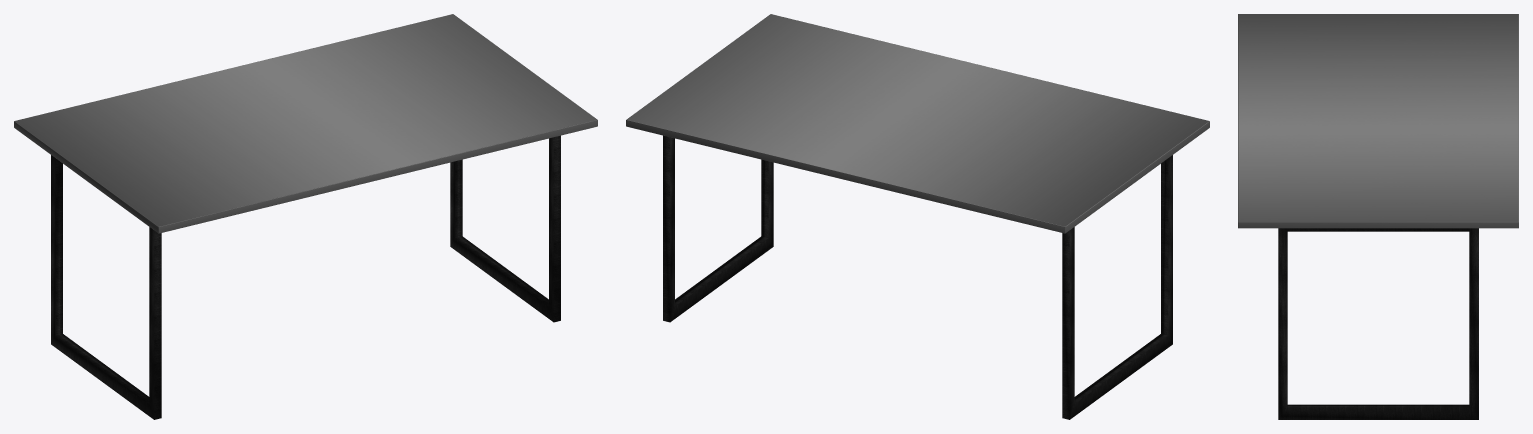
File: conpany109.gltf
The picture shows the model from 3 angles, left to right: view 1: azimuth 30°, elevation 25°; view 2: azimuth 150°, elevation 25°; view 3: azimuth 270°, elevation 25°; orthographic projection. The views are drawn at different scales.
Visible parts, largest first — view 1: 3DGeom~1_Defintion#3; view 2: 3DGeom~1_Defintion#3; view 3: 3DGeom~1_Defintion#3.
Part boxes in pixels (left/top/right/bottom): 3DGeom~1_Defintion#3: left=14, top=14, right=597, bottom=419; 3DGeom~1_Defintion#3: left=626, top=14, right=1209, bottom=419; 3DGeom~1_Defintion#3: left=1238, top=14, right=1518, bottom=419.
Bounding box in the file's own units: 15.31 × 7.07 × 8.74.
Materials: 2 (2 with a texture image).
